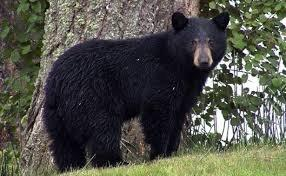bear: (43, 12, 230, 170)
